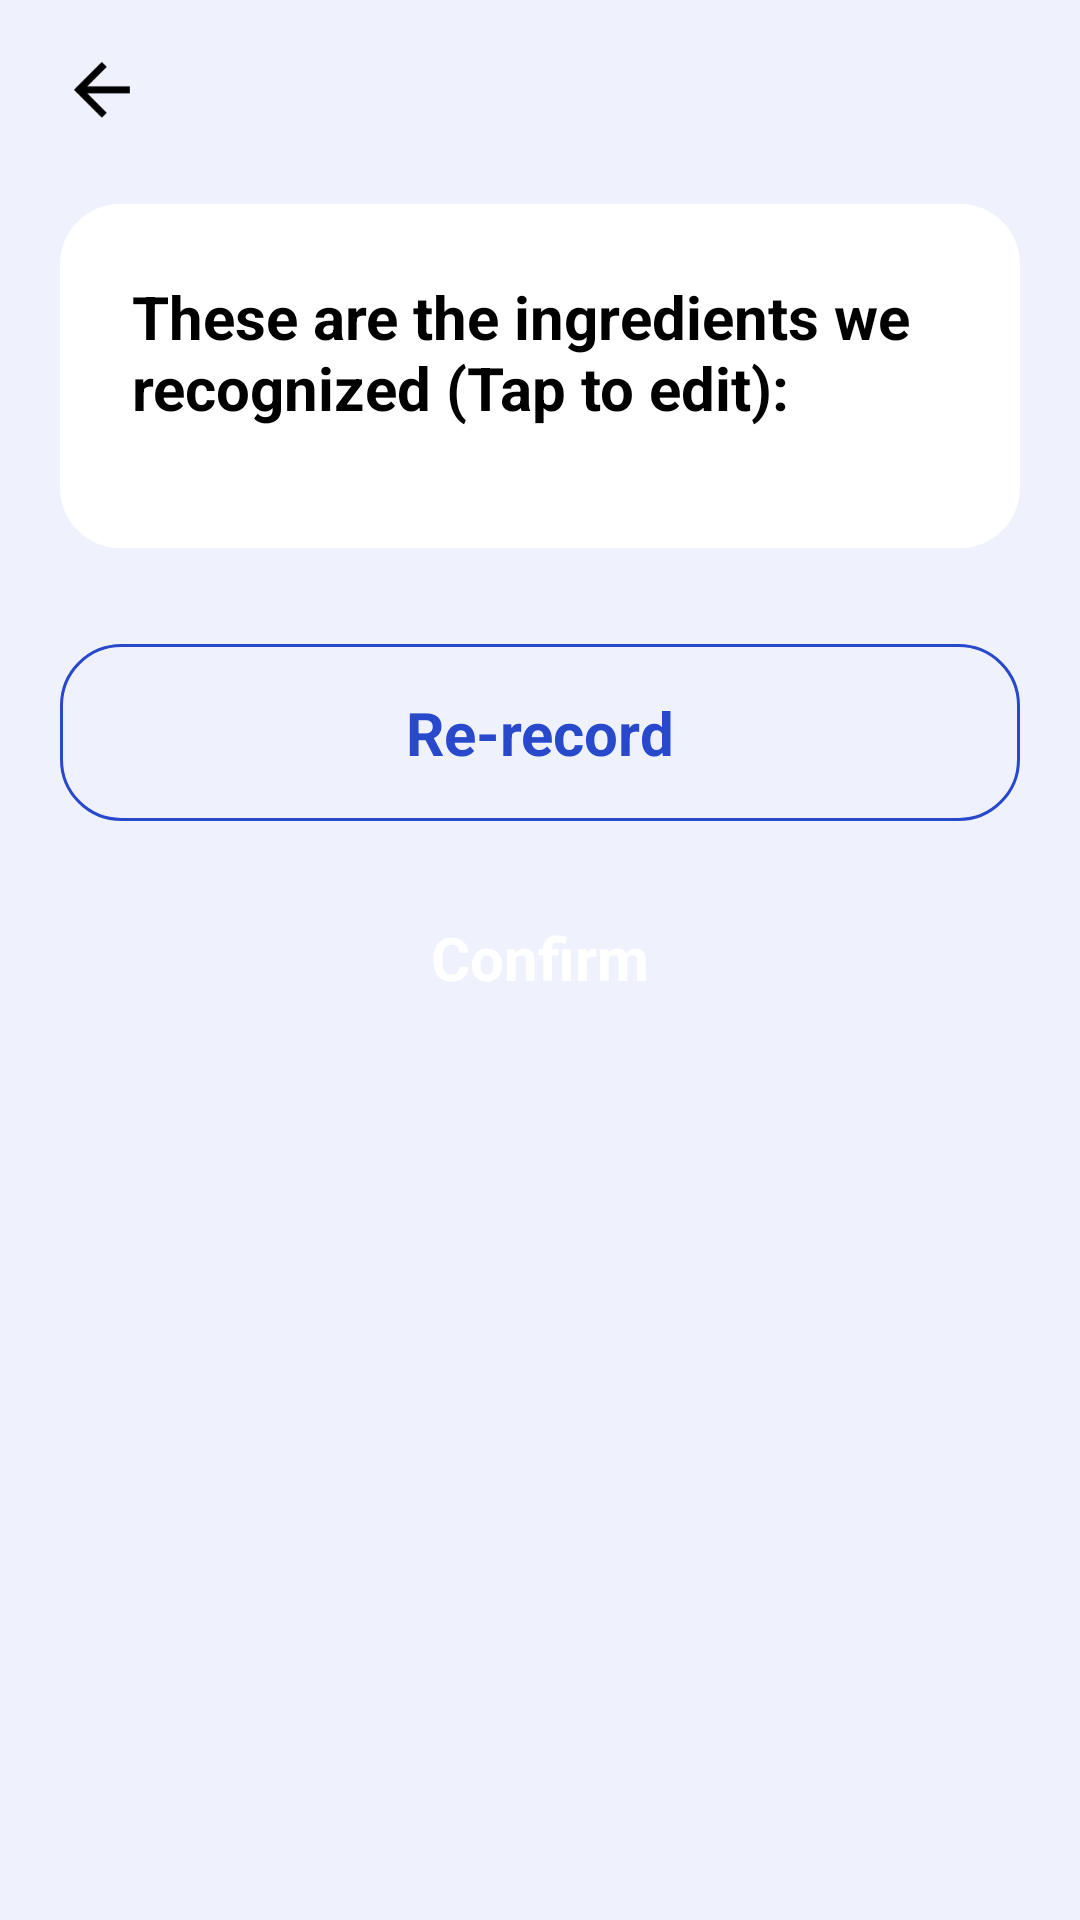

Screen size 1080px×1920px. Icon name, then its center in pixels as [x,y]:
back: [102,90]
